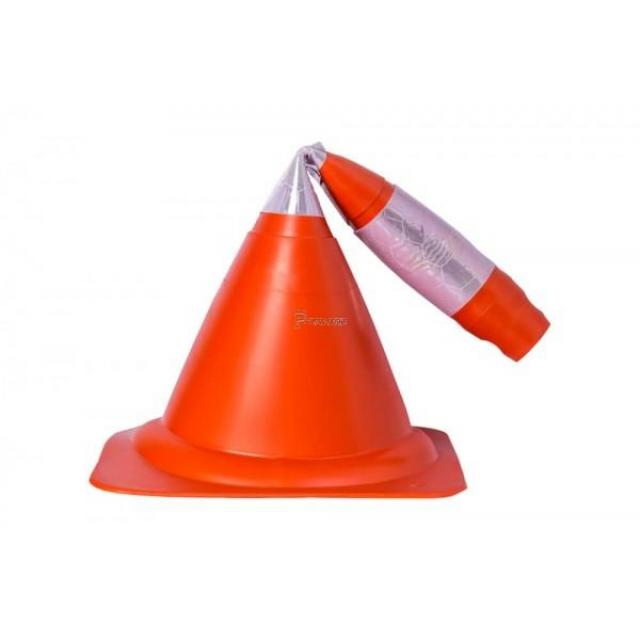cone: (98, 82, 574, 562)
